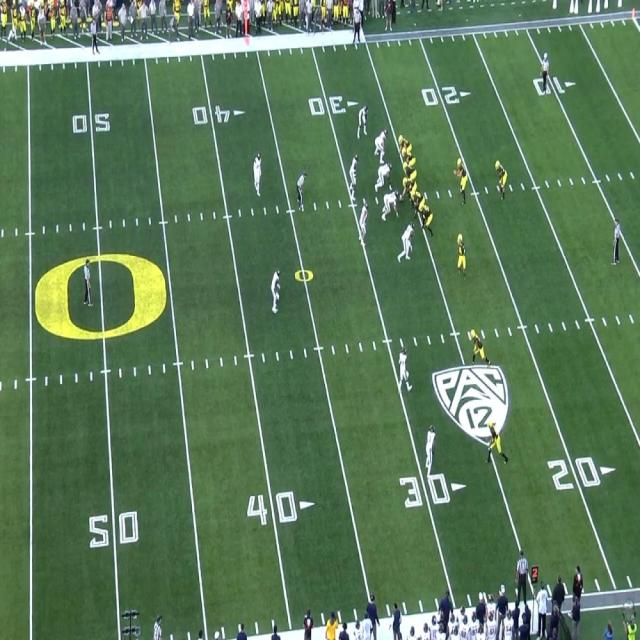center: (403, 177, 416, 198)
db: (398, 346, 411, 388), (270, 268, 282, 310), (253, 153, 263, 197), (428, 426, 437, 473), (358, 106, 368, 138)
lb: (358, 202, 371, 242), (348, 155, 358, 192)
qb: (456, 156, 466, 198)
